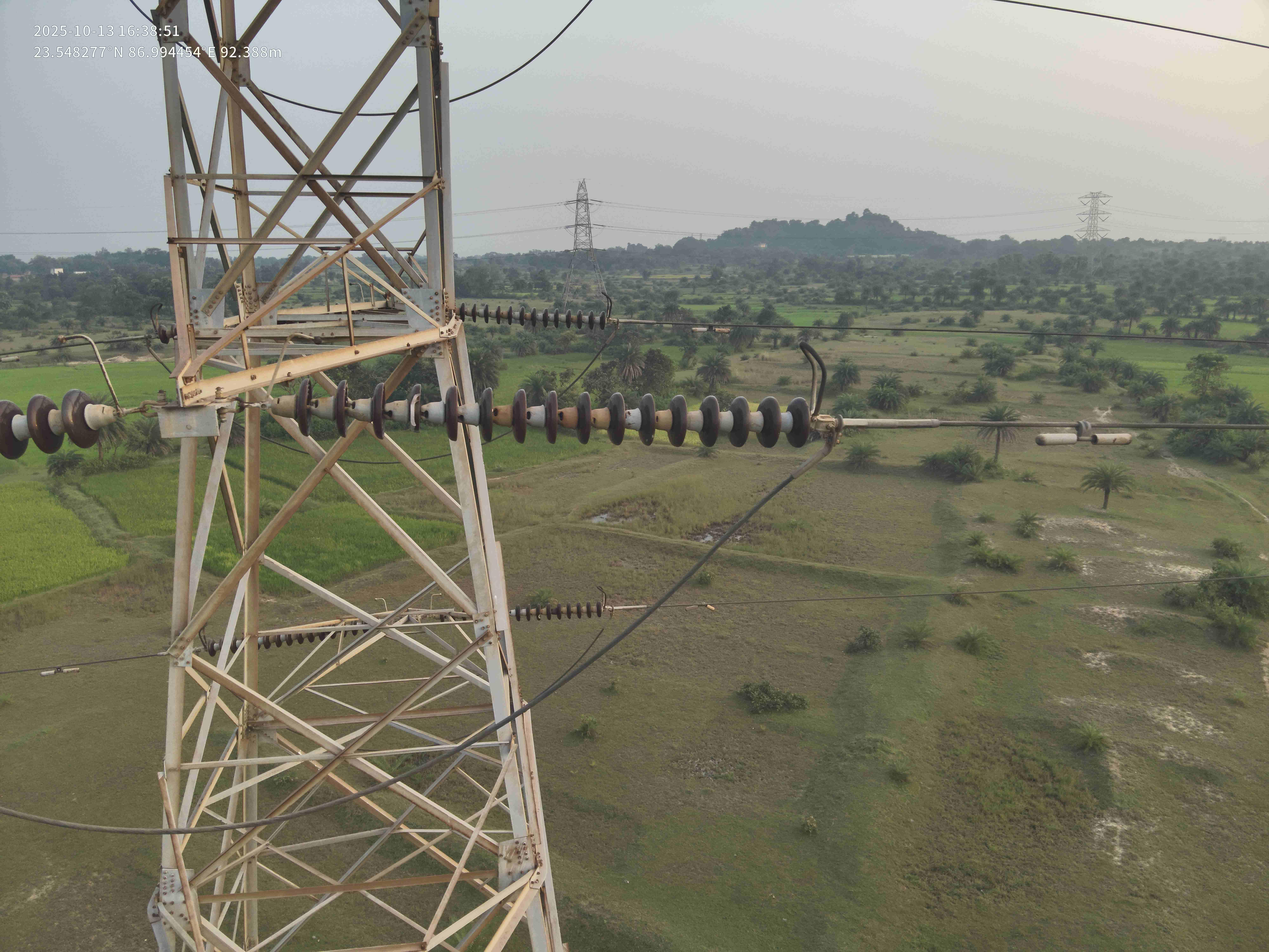broken_insulator: (407, 383, 423, 434), (536, 603, 541, 621)
